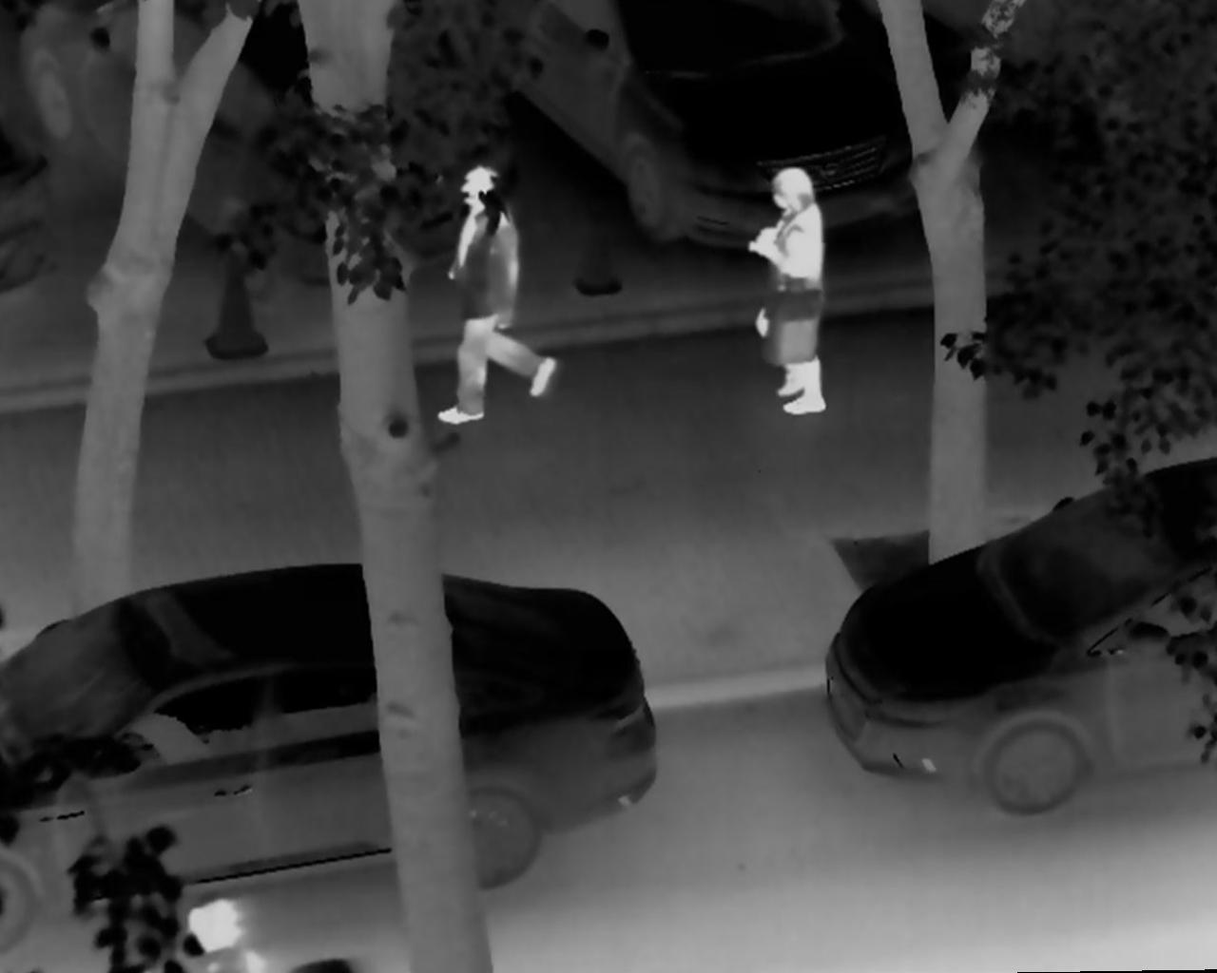person: (437, 164, 559, 431), (742, 155, 831, 419), (151, 892, 275, 973)
